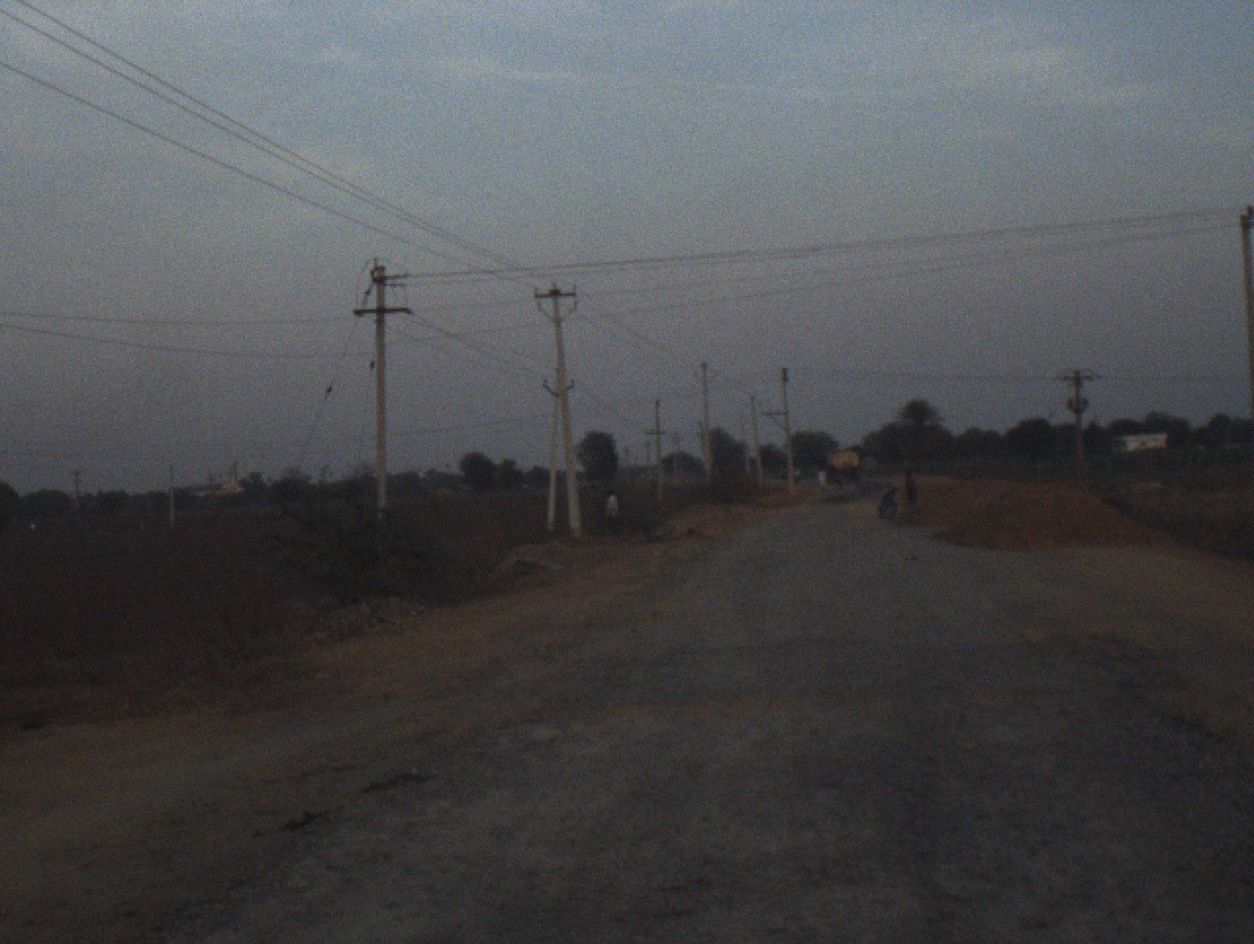car: (786, 461, 805, 485)
motorcycle: (878, 481, 907, 520)
person: (603, 485, 626, 531), (905, 467, 919, 502), (837, 459, 846, 490), (816, 463, 826, 490)
truck: (821, 448, 858, 474)
